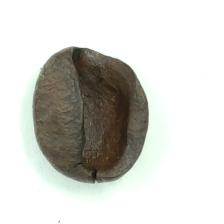NG: (66, 45, 137, 181)
